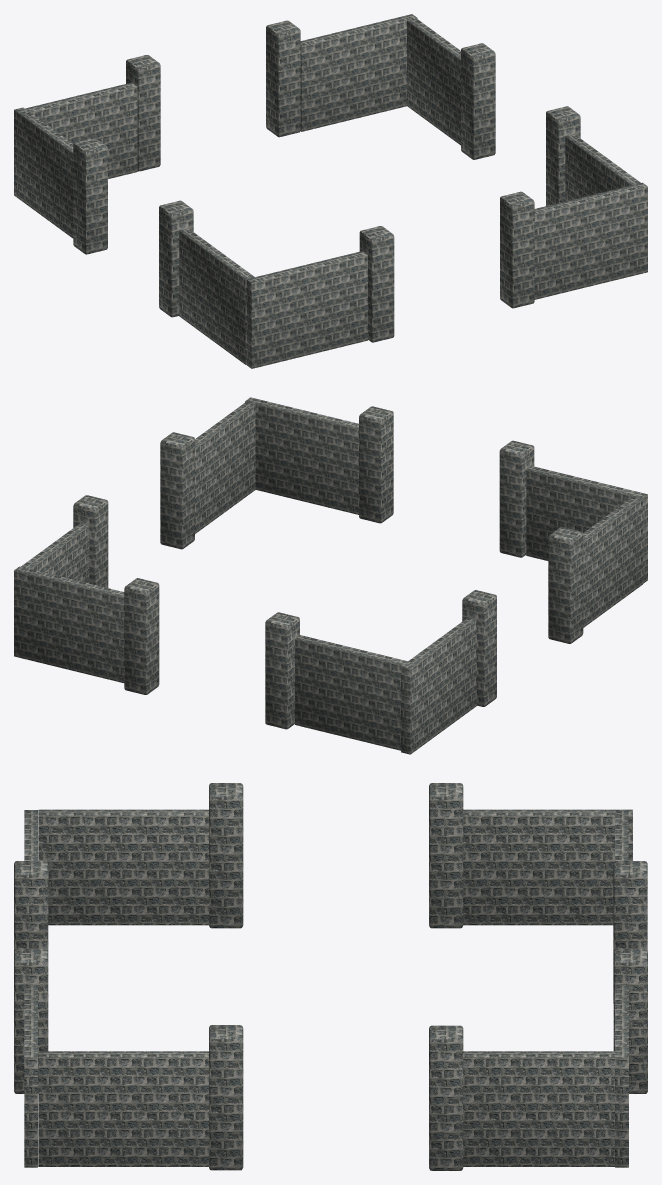
File: Wall.FBX
The picture shows the model from 3 angles, top to bottom: view 1: azimuth 30°, elevation 25°; view 2: azimuth 150°, elevation 25°; view 3: azimuth 270°, elevation 25°; orthographic projection. The views are drawn at different scales.
Visible parts, largest first — view 1: span001, span, span005, span002, span004, span003, span006, column, column005, column002, column006, column001 (+4 smaller); view 2: span005, span004, span, span003, span001, span007, span002, column006, column003, column004, column, column007 (+4 smaller); view 3: span007, span002, span003, span006, column004, column002, column003, column005, column006, column, column007, column001 (+4 smaller).
Boxes of the visible parts, x1,y1,x2,y2 form: span001: [246, 251, 367, 368]; span: [534, 182, 647, 299]; span005: [300, 14, 417, 131]; span002: [179, 228, 254, 364]; span004: [16, 82, 137, 178]; span003: [14, 107, 73, 238]; span006: [407, 15, 460, 145]; column: [500, 191, 534, 308]; column005: [461, 43, 495, 159]; column002: [73, 138, 107, 254]; column006: [266, 20, 300, 137]; column001: [359, 226, 394, 342]; span005: [14, 566, 124, 682]; span004: [295, 635, 415, 750]; span: [245, 397, 358, 514]; span003: [401, 618, 476, 754]; span001: [526, 466, 647, 583]; span007: [195, 401, 255, 533]; span002: [583, 496, 642, 627]; column006: [124, 578, 159, 694]; column003: [548, 527, 583, 643]; column004: [160, 432, 194, 549]; column: [359, 406, 393, 523]; column007: [265, 612, 299, 729]; span007: [38, 1051, 208, 1166]; span002: [38, 809, 208, 925]; span003: [463, 809, 632, 925]; span006: [463, 1051, 615, 1166]; column004: [209, 1025, 243, 1170]; column002: [429, 783, 463, 928]; column003: [209, 783, 243, 928]; column005: [429, 1025, 463, 1170]; column006: [613, 948, 647, 1093]; column: [14, 948, 48, 1093]; column007: [613, 861, 647, 1003]; column001: [14, 861, 48, 950].
Size of the model in its own units: 144 by 34.68 by 150.
16 materials, 16 textured.
